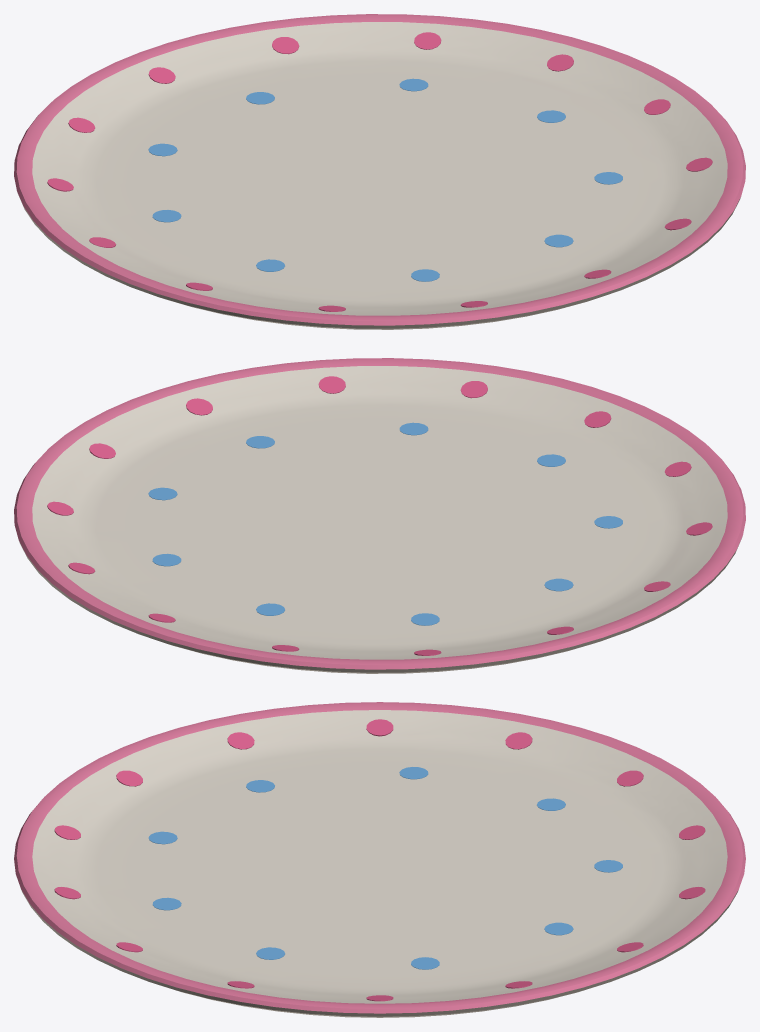
File: plate_dots.glb
3 renders of one model, top to bottom at view 1: azimuth 30°, elevation 25°; view 2: azimuth 150°, elevation 25°; view 3: azimuth 270°, elevation 25°, orthographic.
Parts seen in each view (by area): view 1: body; view 2: body; view 3: body.
Part boxes in pixels (x1,y1,x2,y2): body: (14, 14, 745, 329); body: (14, 358, 745, 673); body: (14, 702, 745, 1017).
Size of the model in its own units: 1.6 by 0.0939 by 1.6.
